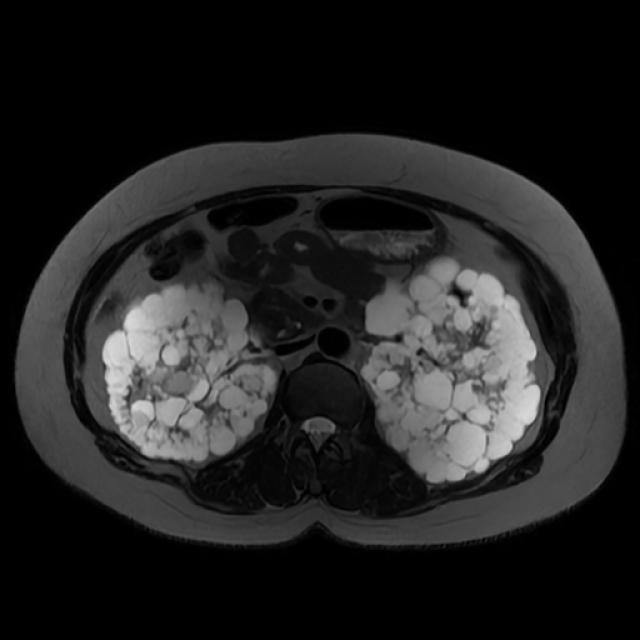sag: (104, 282, 279, 463)
sol: (364, 256, 542, 485)
